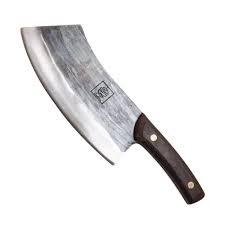Knife: (19, 23, 205, 204)
